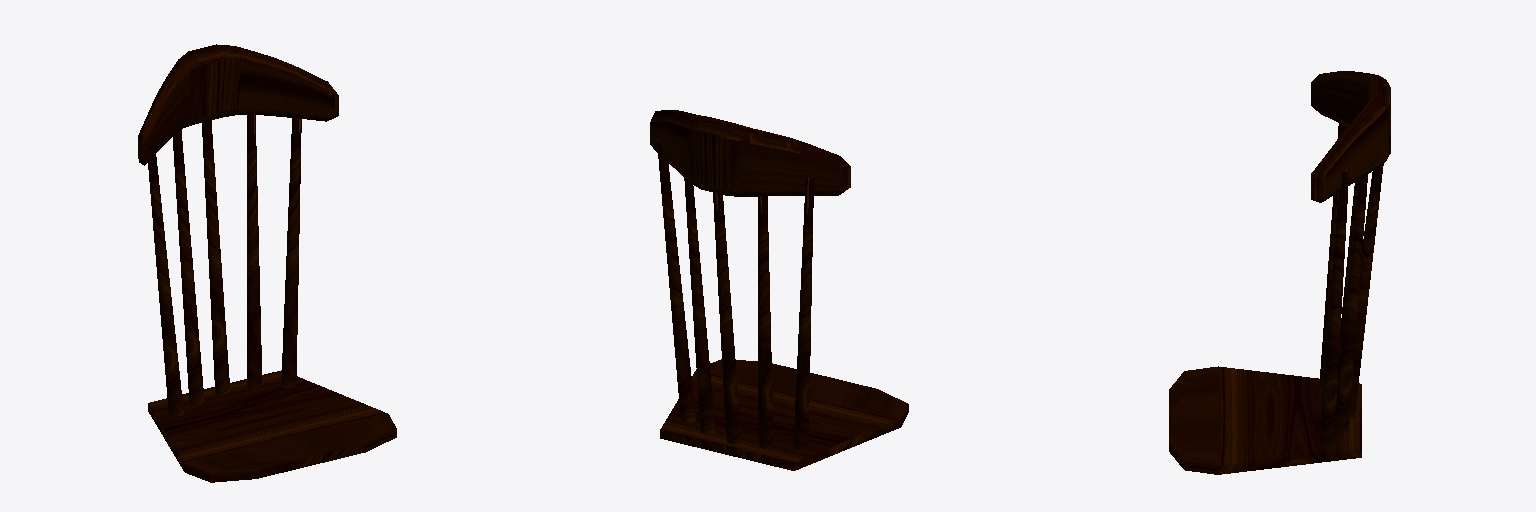
3 renders of one model, left to right at view 1: azimuth 30°, elevation 25°; view 2: azimuth 150°, elevation 25°; view 3: azimuth 270°, elevation 25°, orthographic.
Visible parts, largest first — view 1: Cube, Cube.001, Cylinder.002, Cylinder.004, Cylinder.001, Cylinder.003, Cylinder; view 2: Cube, Cube.001, Cylinder.004, Cylinder, Cylinder.001, Cylinder.002, Cylinder.003; view 3: Cube, Cube.001, Cylinder.004, Cylinder.003, Cylinder.002, Cylinder, Cylinder.001.
Boxes of the visible parts, box(x1,y1,x2,y2) form: Cube: box(148, 370, 396, 482); Cube.001: box(138, 44, 338, 165); Cylinder.002: box(202, 120, 229, 394); Cylinder.004: box(281, 118, 301, 388); Cylinder.001: box(173, 129, 204, 403); Cylinder.003: box(247, 113, 262, 389); Cylinder: box(148, 154, 183, 415); Cube: box(660, 359, 908, 470); Cube.001: box(650, 110, 850, 196); Cylinder.004: box(657, 138, 695, 422); Cylinder: box(793, 176, 813, 449); Cylinder.001: box(758, 196, 773, 448); Cylinder.002: box(713, 193, 741, 443); Cylinder.003: box(684, 178, 715, 434); Cube: box(1169, 366, 1361, 474); Cube.001: box(1311, 71, 1390, 202); Cylinder.004: box(1319, 169, 1348, 446); Cylinder.003: box(1335, 174, 1367, 433); Cylinder.002: box(1349, 163, 1383, 419); Cylinder: box(1319, 123, 1347, 391); Cylinder.001: box(1337, 180, 1358, 388).
Size of the model in its own units: 13.27 by 20.98 by 12.46.
1 materials, 1 textured.